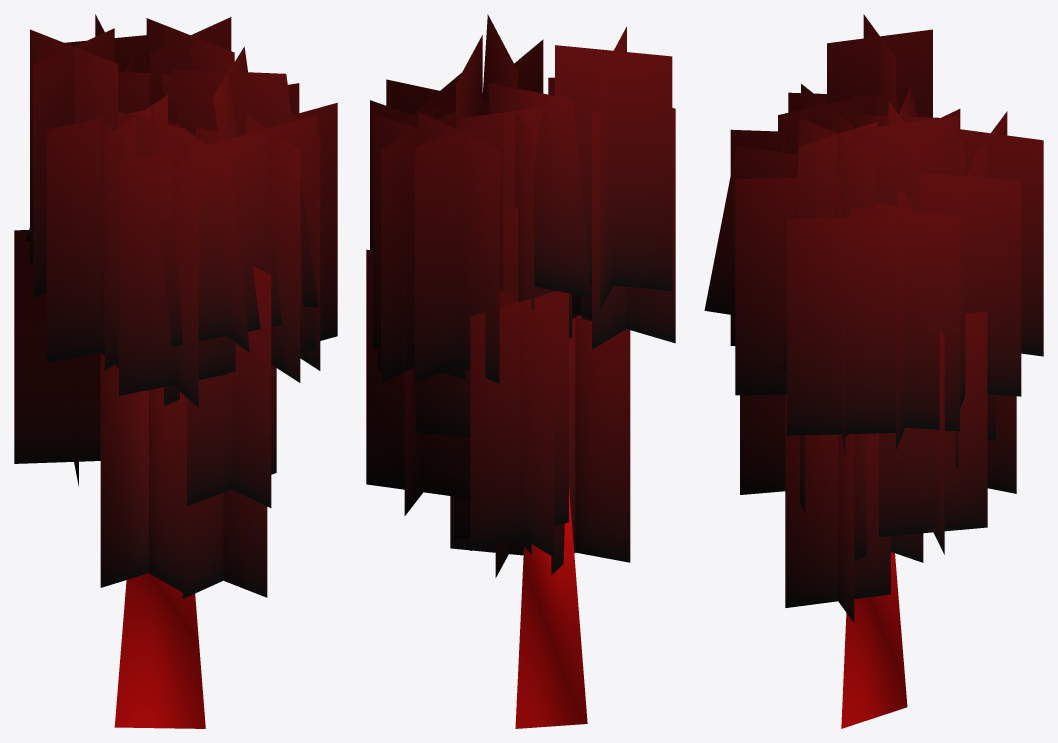
Rendered from SM_Tree_Willow_Small_01_LOD01.fbx.
3 views of the same model, side by side, from view 1: azimuth 30°, elevation 25°; view 2: azimuth 150°, elevation 25°; view 3: azimuth 270°, elevation 25° (orthographic). The views are drawn at different scales.
Parts seen in each view (by area): view 1: SM_Tree_Willow_Small_01_LOD01; view 2: SM_Tree_Willow_Small_01_LOD01; view 3: SM_Tree_Willow_Small_01_LOD01.
Part boxes in pixels (left/top/right/bottom): SM_Tree_Willow_Small_01_LOD01: left=14, top=14, right=337, bottom=728; SM_Tree_Willow_Small_01_LOD01: left=366, top=14, right=675, bottom=728; SM_Tree_Willow_Small_01_LOD01: left=704, top=14, right=1043, bottom=728.
Size of the model in its own units: 212 by 477 by 228.
